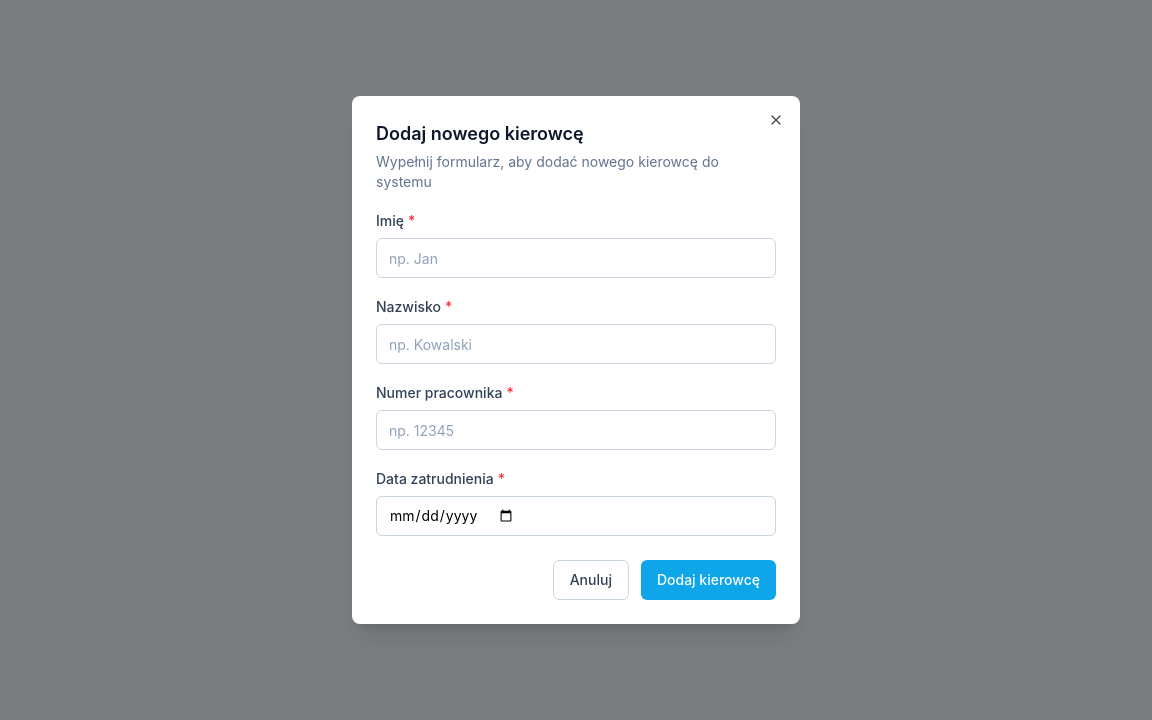
Test: AddKierowcaDialog › should show validation errors for empty fields
The image size is (1152, 720).
What coordinates should you click on to do the following:
click the button "Dodaj kierowcę"
I would click on:
 (708, 580)
Its box is top-left (641, 560), bottom-right (776, 600).
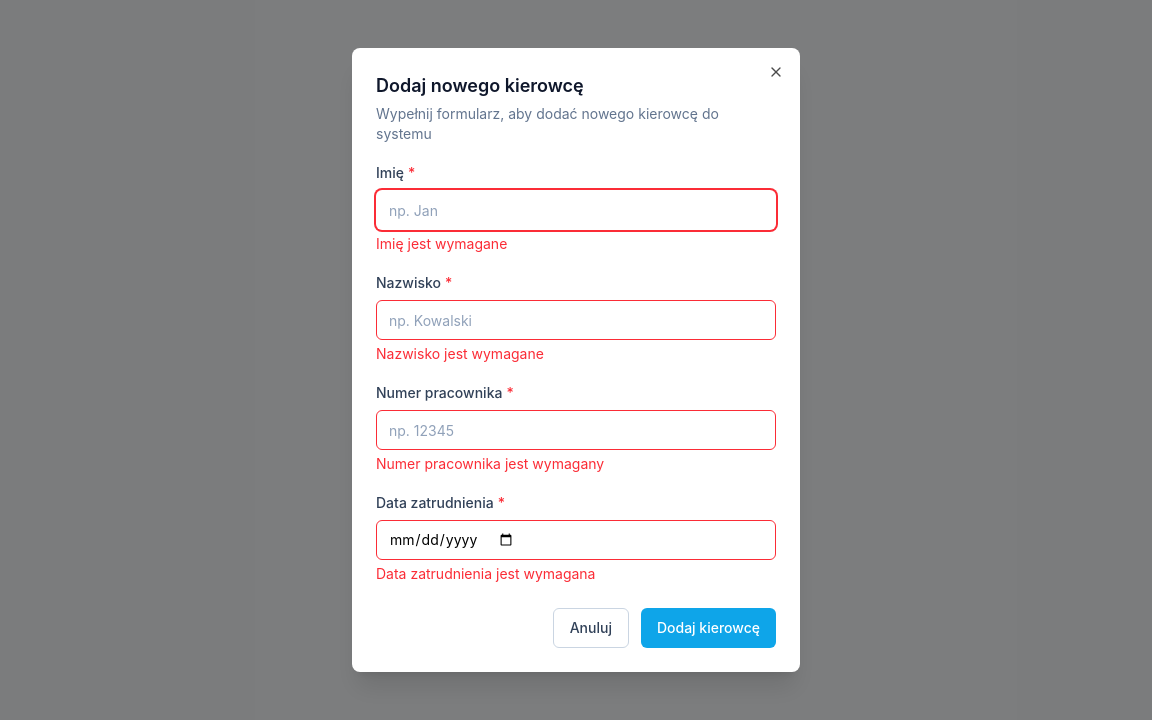
Check: the text "Imię jest wymagane" is shown, box top-left (376, 235), bottom-right (507, 252)
Check: the text "Nazwisko jest wymagane" is shown, box top-left (376, 345), bottom-right (544, 362)
Check: the text "Numer pracownika jest wymagany" is shown, box top-left (376, 455), bottom-right (604, 472)
